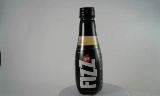appyfizz: (68, 6, 97, 95)
